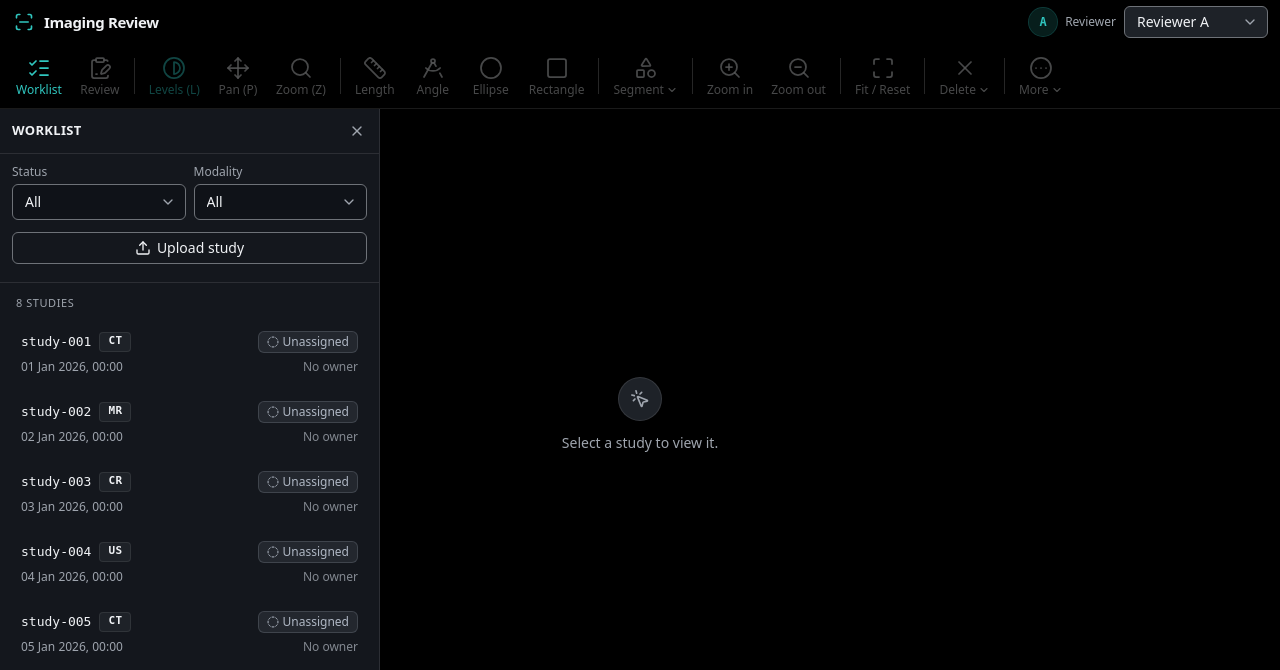
Scenario: Review panel modes › >= 1280px: pushes the layout and is open by default; collapsing keeps it mounted
The image size is (1280, 670).
Later steps or results of the test are not shown.
Step 1. Click the button with aria-label "Open study study-001" → (56, 341), box [8,320,371,386]
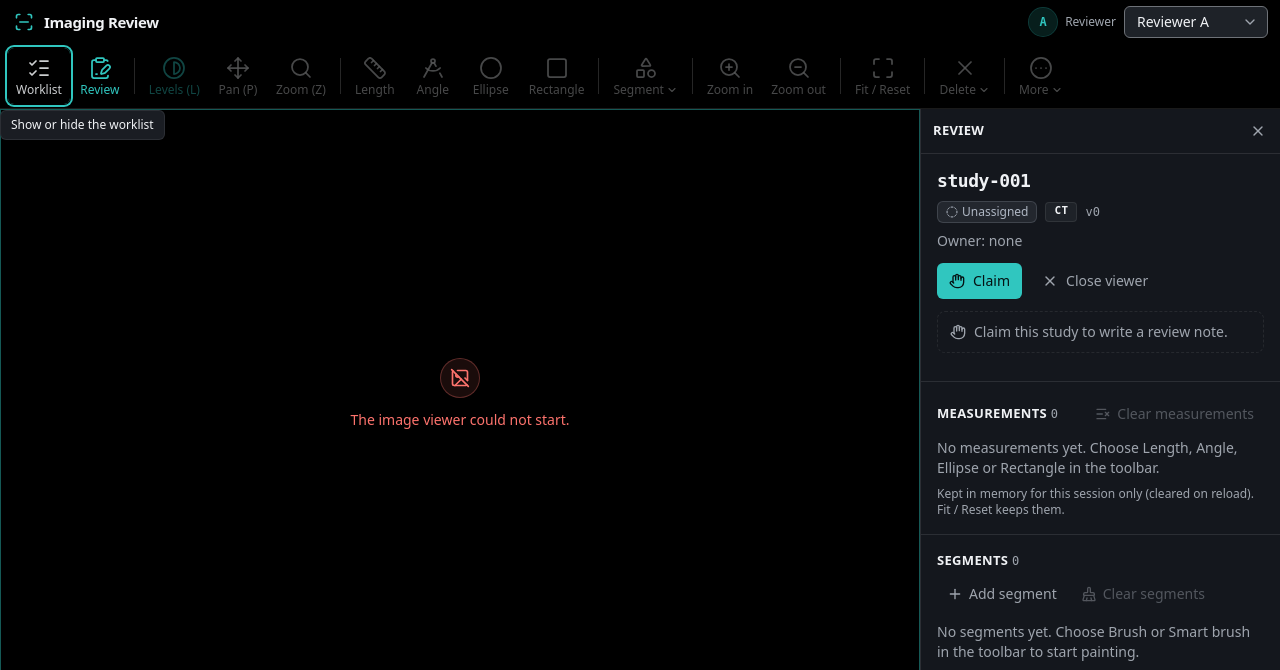
expect the heading named "study-001 · " is shown: met, box [937,170,1100,192]
expect the button "Review" is expanded: met, box [72,48,128,104]
